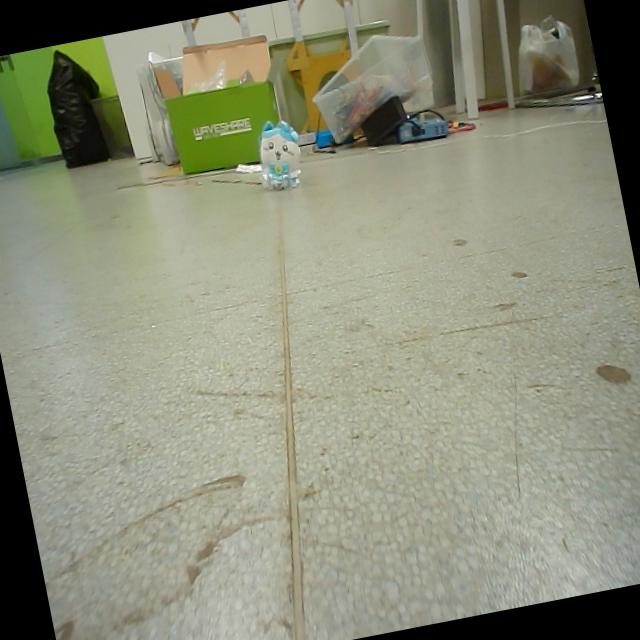xiaoba: (256, 115, 310, 198)
